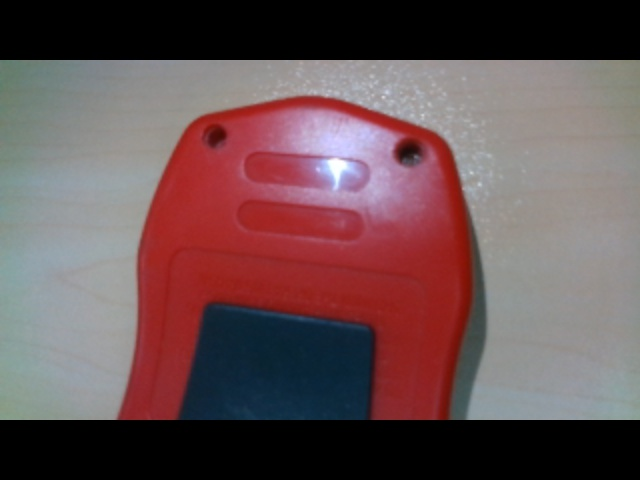Screw holes: (391, 135, 431, 167), (200, 121, 230, 149)
